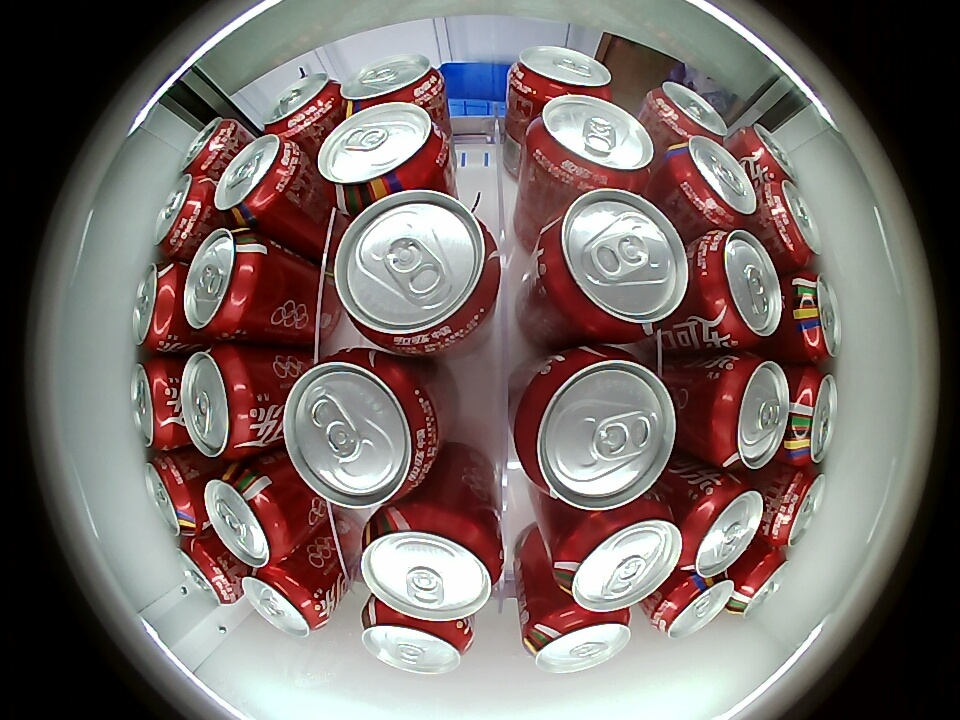kele: (332, 190, 502, 354), (513, 347, 678, 510), (283, 352, 439, 508), (535, 188, 689, 341), (360, 504, 502, 623), (553, 504, 681, 612), (317, 101, 448, 205), (527, 94, 655, 191), (695, 229, 782, 348), (705, 355, 790, 471), (205, 463, 294, 567), (181, 344, 261, 459), (184, 228, 266, 338), (679, 476, 764, 576), (667, 136, 757, 229), (214, 133, 304, 226), (360, 606, 472, 675), (522, 606, 633, 674), (242, 565, 328, 637), (341, 55, 443, 114), (510, 46, 613, 103), (760, 180, 822, 267), (652, 572, 732, 639), (784, 368, 838, 465), (648, 80, 728, 144), (152, 173, 213, 256), (786, 272, 842, 362), (765, 467, 826, 549), (265, 74, 341, 139), (144, 453, 203, 536), (132, 261, 185, 353), (130, 358, 182, 450), (176, 536, 240, 606), (730, 548, 790, 617), (180, 116, 239, 177), (738, 122, 796, 183)
